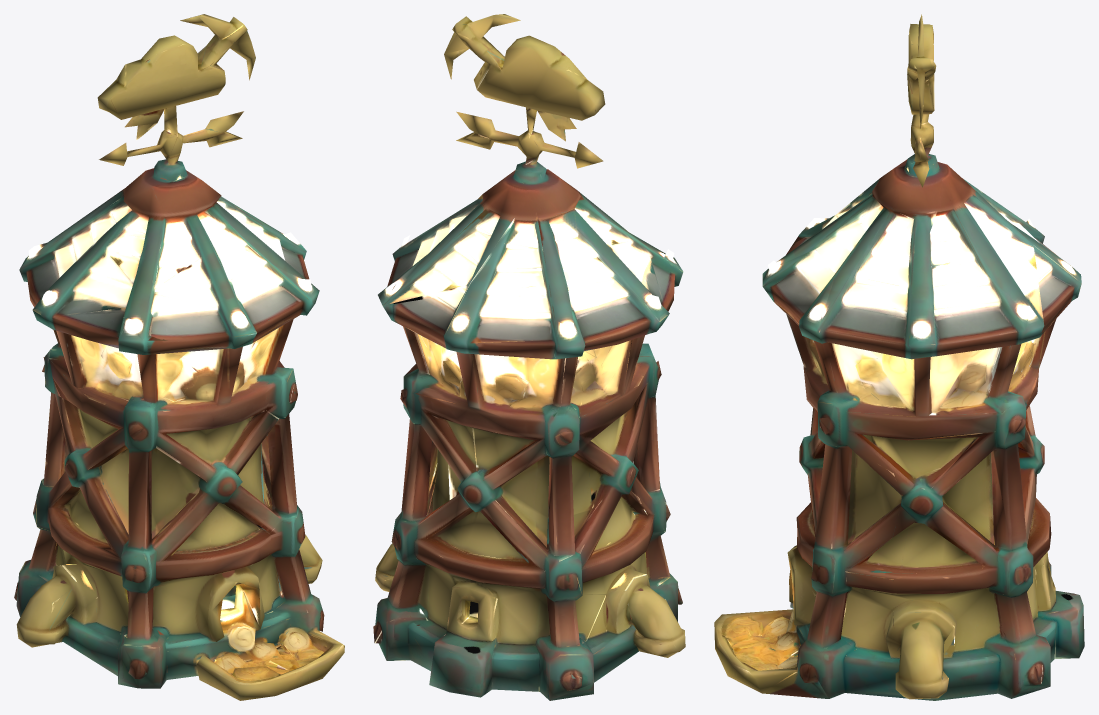
File: Meshy_AI_게임에서_배치할_0608200154_texture.fbx
3 renders of one model, left to right at view 1: azimuth 30°, elevation 25°; view 2: azimuth 150°, elevation 25°; view 3: azimuth 270°, elevation 25°, orthographic. The views are drawn at different scales.
Parts seen in each view (by area): view 1: Mesh1.0; view 2: Mesh1.0; view 3: Mesh1.0.
Boxes of the visible parts, x1=… form: Mesh1.0: x1=14, y1=14, x2=344, y2=700; Mesh1.0: x1=373, y1=14, x2=685, y2=700; Mesh1.0: x1=714, y1=14, x2=1084, y2=700.
Size of the model in its own units: 98.78 by 191 by 101.
1 material, 1 textured.
